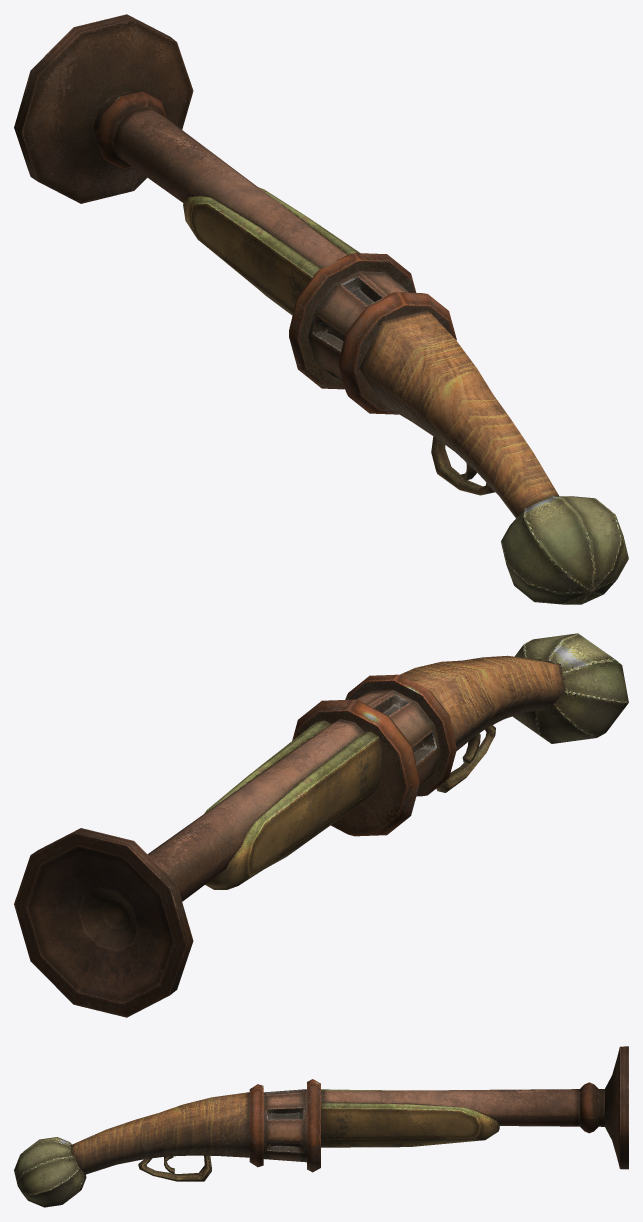
File: Pistol.glb
3 renders of one model, top to bottom at view 1: azimuth 30°, elevation 25°; view 2: azimuth 150°, elevation 25°; view 3: azimuth 270°, elevation 25°, orthographic. The views are drawn at different scales.
Parts seen in each view (by area): view 1: Pistol; view 2: Pistol; view 3: Pistol.
Boxes of the visible parts, x1,y1,x2,y2 form: Pistol: [14, 14, 628, 604]; Pistol: [14, 633, 628, 1017]; Pistol: [14, 1046, 628, 1207].
Bounding box in the file's own units: 0.1577 × 0.2099 × 0.7827.
Materials: 1 (1 with a texture image).
